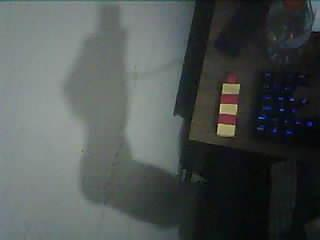lego: (215, 72, 241, 138)
